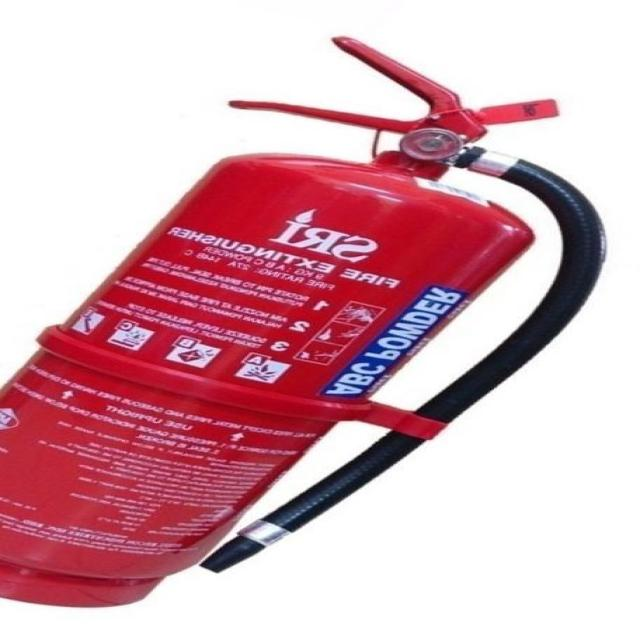fire_extinguisher: (0, 30, 613, 612)
